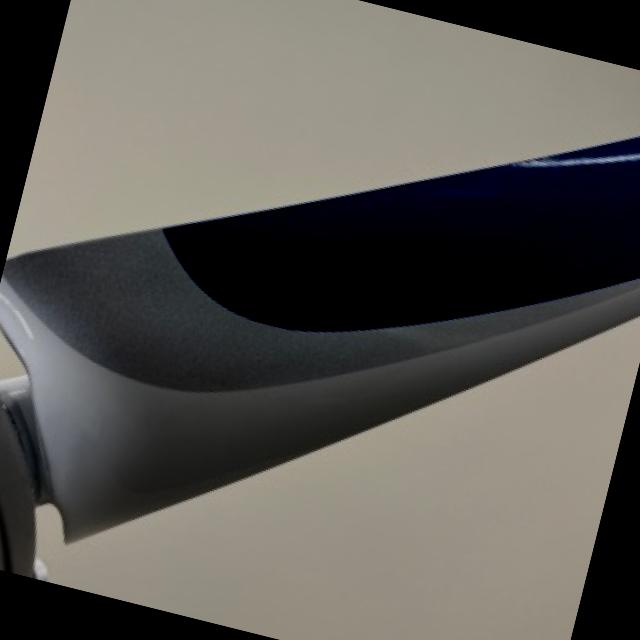healthy: (40, 318, 640, 640)
